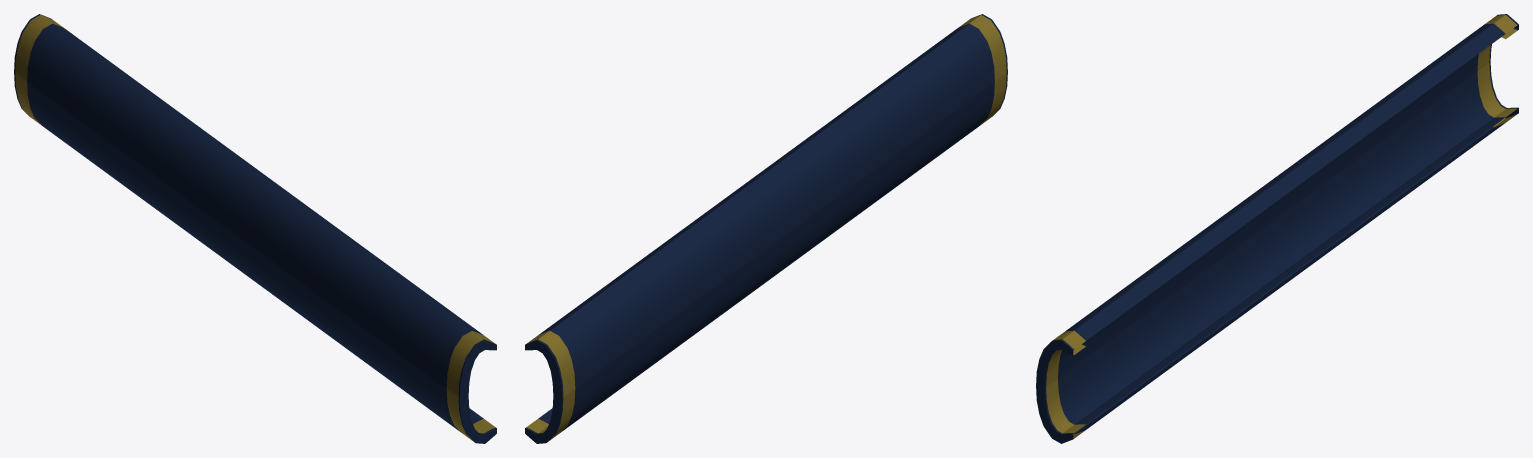
File: SpellbookNoUV_Spine.fbx
3 views of the same model, side by side, from view 1: azimuth 30°, elevation 25°; view 2: azimuth 150°, elevation 25°; view 3: azimuth 330°, elevation 25° (orthographic).
Visible parts, largest first — view 1: spellbook_spine; view 2: spellbook_spine; view 3: spellbook_spine.
Part boxes in pixels (x1,y1,x2,y2): spellbook_spine: [14, 14, 496, 443]; spellbook_spine: [525, 14, 1007, 443]; spellbook_spine: [1036, 14, 1518, 443].
Size of the model in its own units: 1.64 by 4.37 by 34.02.
